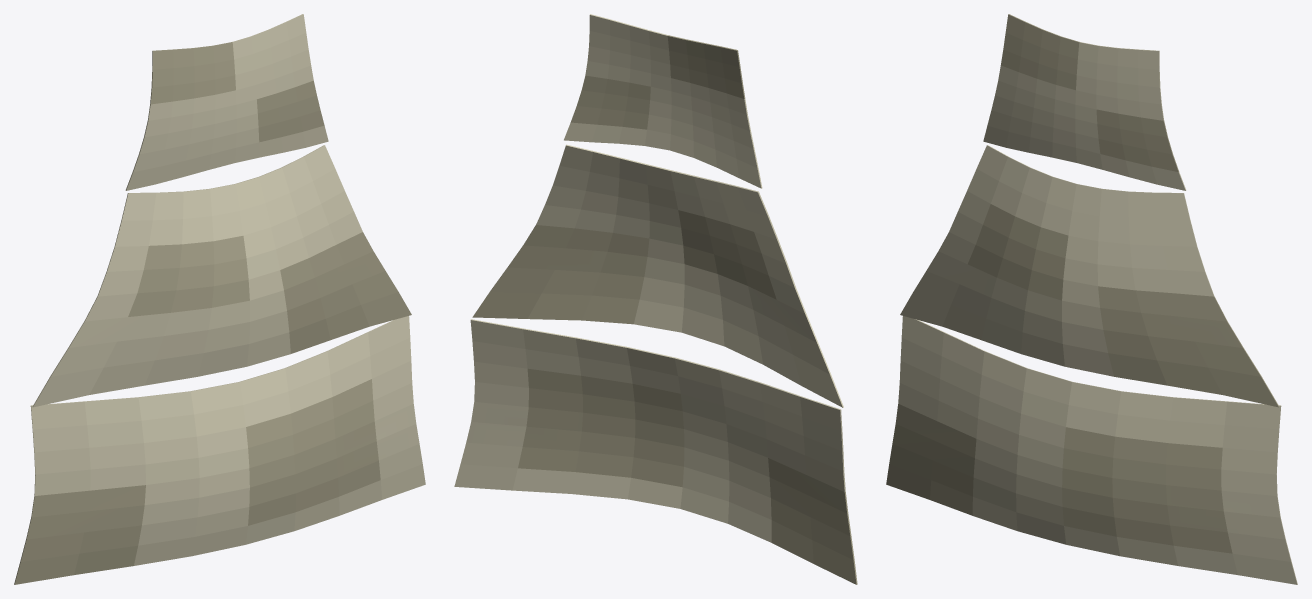
Rendered from LargeShip_3_Sails4.fbx.
3 views of the same model, side by side, from view 1: azimuth 30°, elevation 25°; view 2: azimuth 150°, elevation 25°; view 3: azimuth 330°, elevation 25° (orthographic). The views are drawn at different scales.
Visible parts, largest first — view 1: LargeShip_3_Sails4; view 2: LargeShip_3_Sails4; view 3: LargeShip_3_Sails4.
Boxes of the visible parts, x1,y1,x2,y2 form: LargeShip_3_Sails4: (14, 14, 425, 584); LargeShip_3_Sails4: (454, 14, 857, 584); LargeShip_3_Sails4: (886, 14, 1297, 584).
Bounding box in the file's own units: 2093 × 2470 × 271.
